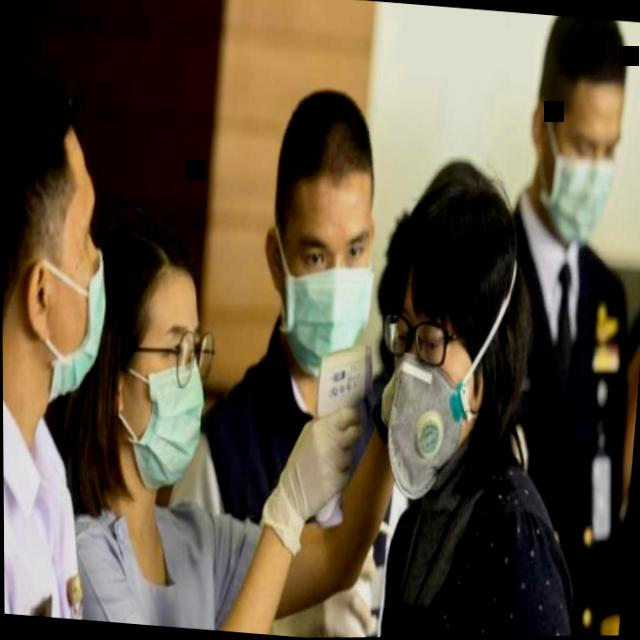Mask: (346, 131, 528, 520), (239, 74, 394, 386), (0, 72, 131, 432), (82, 216, 228, 502), (514, 16, 637, 258)
